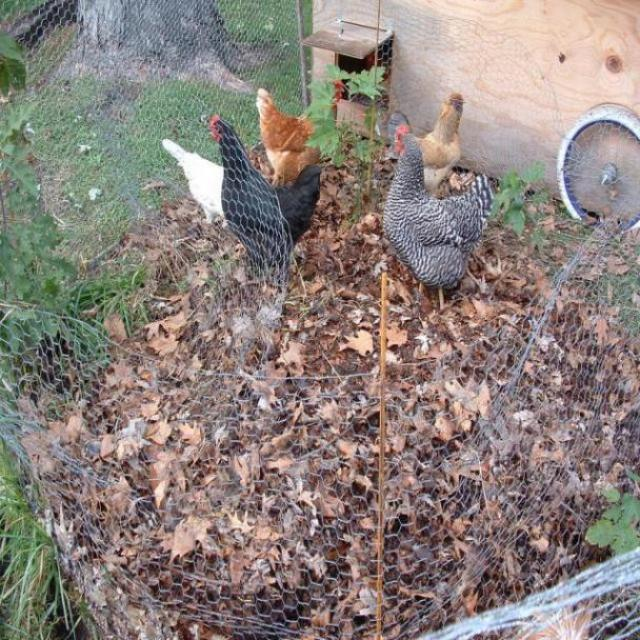Chicken: (206, 109, 326, 298), (381, 130, 494, 316), (252, 79, 357, 190), (380, 85, 466, 198)
